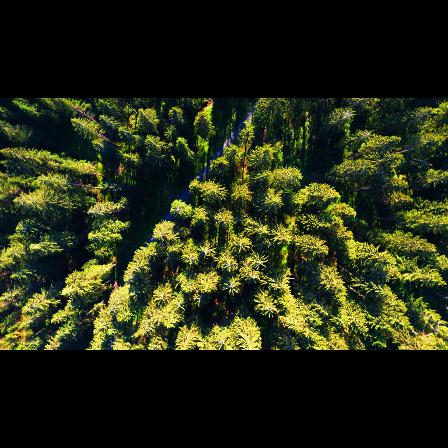Sick: (181, 251, 203, 266), (224, 280, 242, 296)
